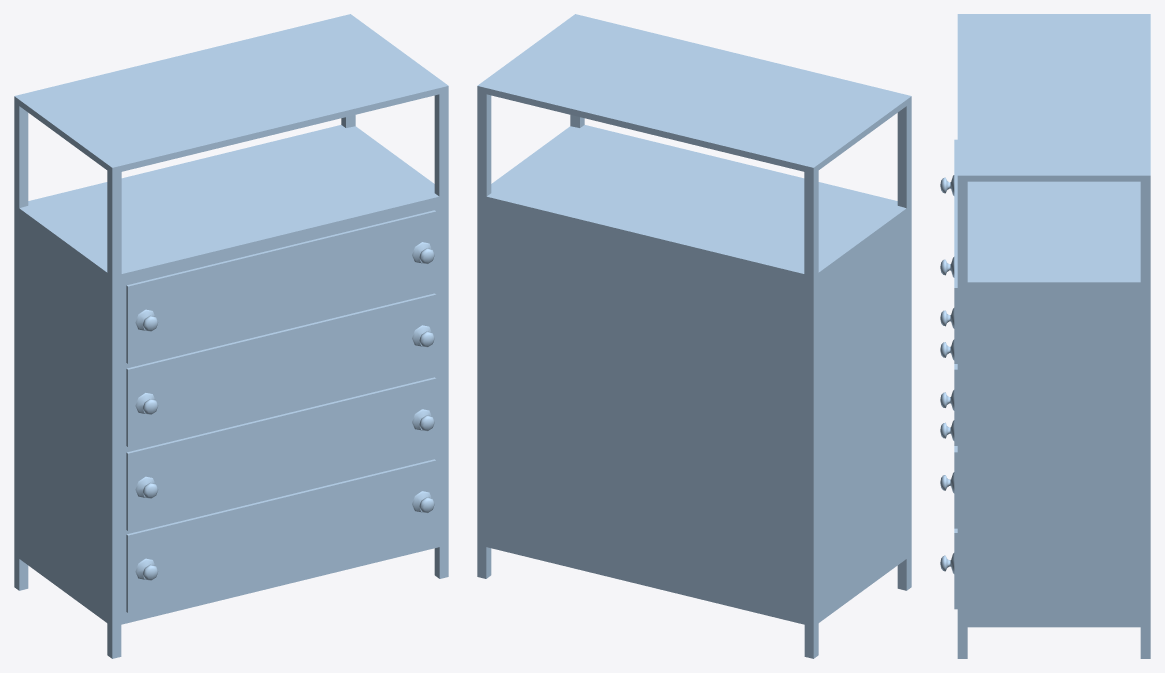
Rendered from Chest.FBX.
The picture shows the model from 3 angles, left to right: view 1: azimuth 30°, elevation 25°; view 2: azimuth 150°, elevation 25°; view 3: azimuth 270°, elevation 25°; orthographic projection.
Visible parts, largest first — view 1: Chest; view 2: Chest; view 3: Chest.
Part boxes in pixels (x1=…): Chest: x1=14, y1=14, x2=448, y2=658; Chest: x1=477, y1=14, x2=911, y2=658; Chest: x1=940, y1=14, x2=1150, y2=658.
Size of the model in its own units: 241 by 133 by 336.
